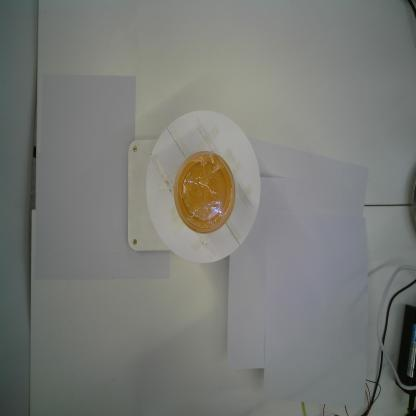Instant Drink: (174, 151, 236, 234)
